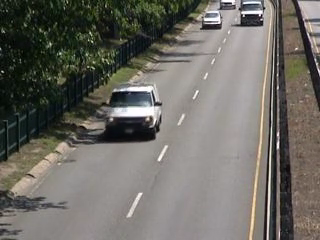car: (202, 11, 224, 32), (218, 1, 238, 11)
truck: (101, 81, 166, 141), (239, 1, 268, 28)
